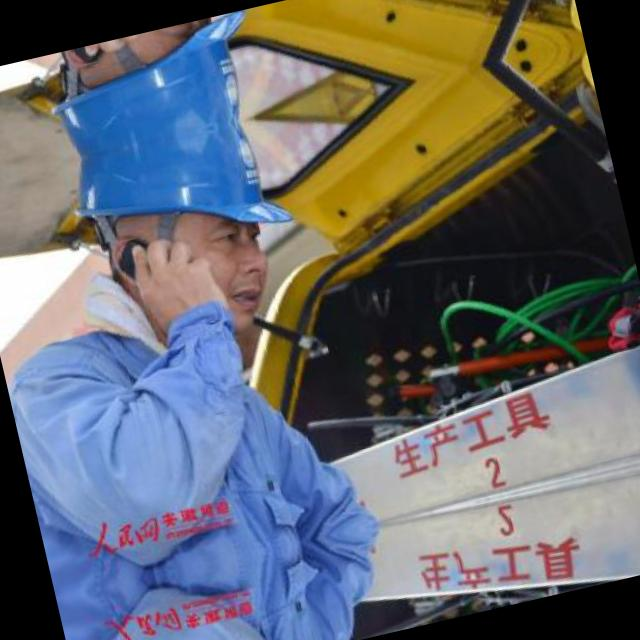helmet: (65, 118, 313, 358), (40, 9, 268, 159)
